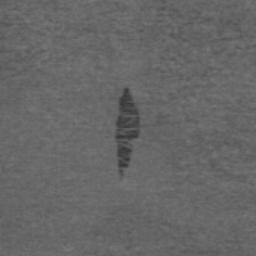Secondary rust skin: (114, 86, 141, 176)
